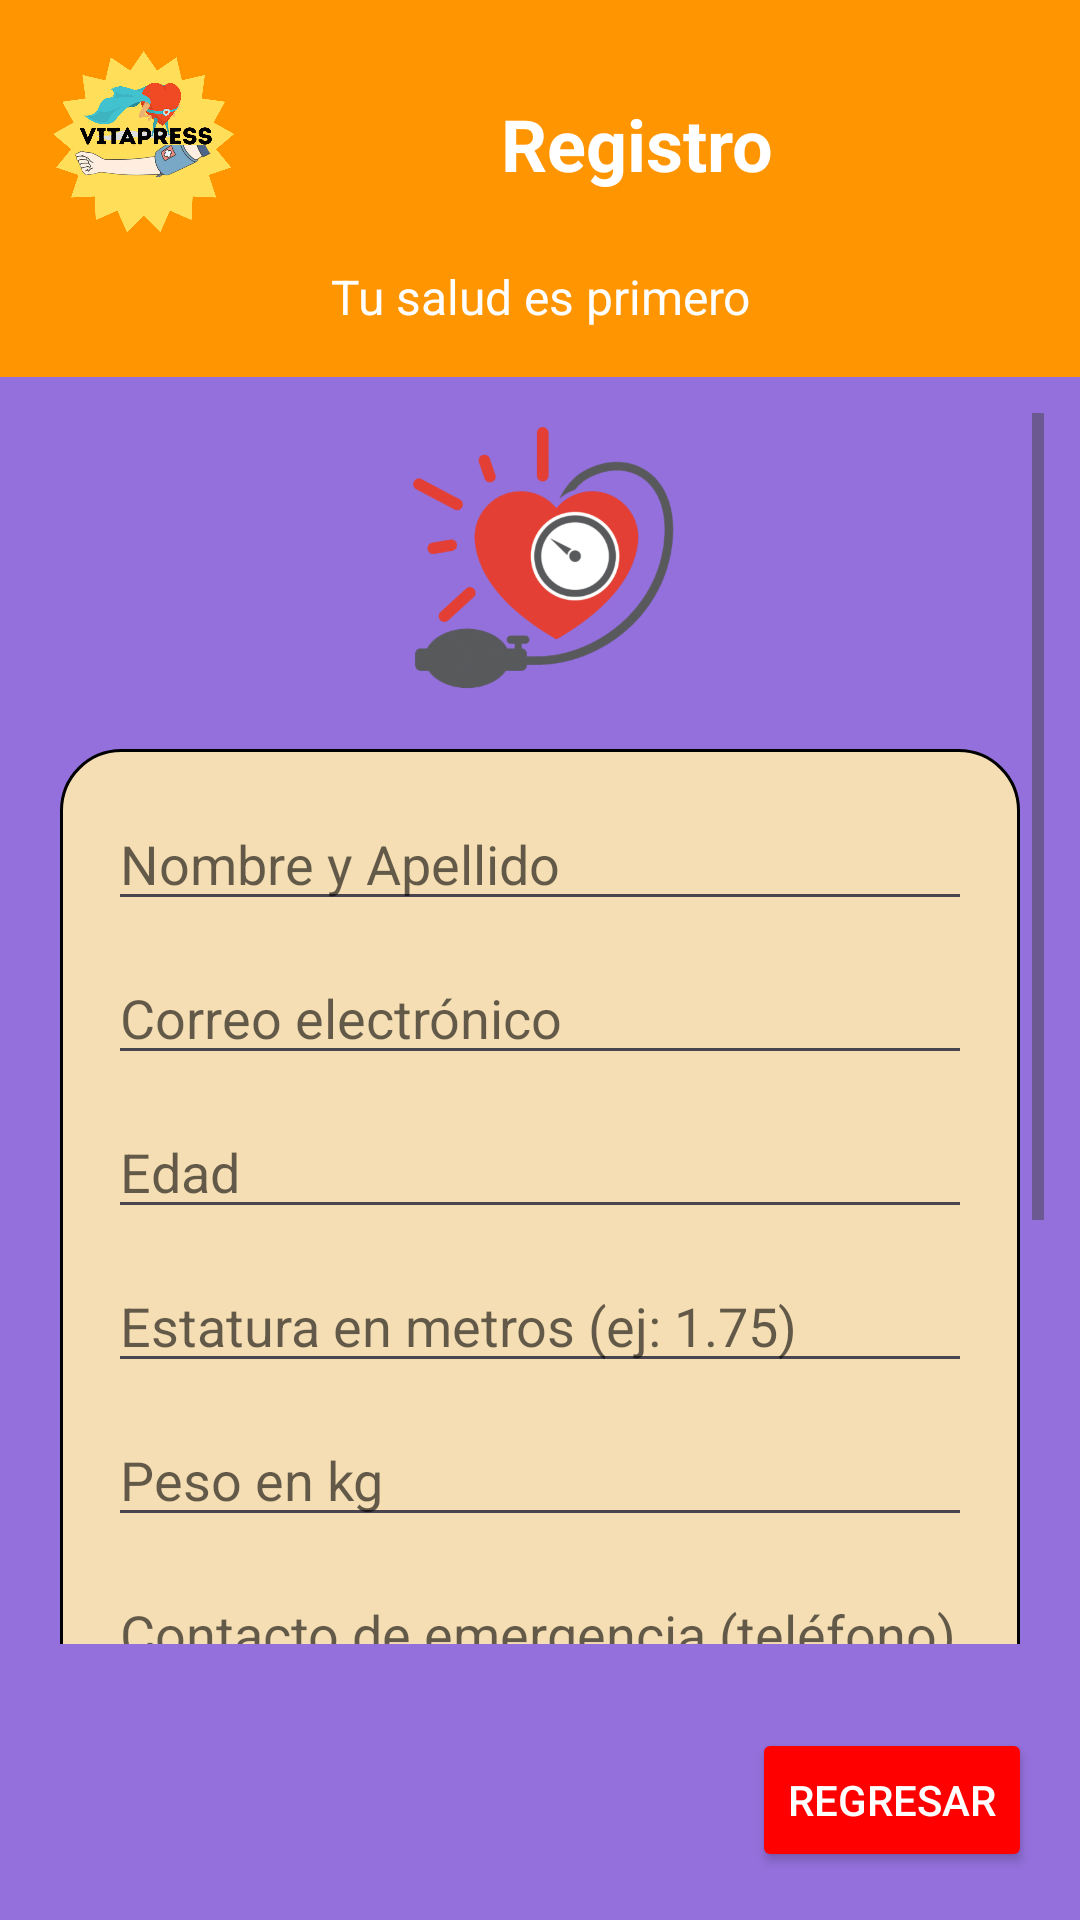

Icons on this 1080*1920 Android screen, each with its box as (x1, y1, x2, y2):
Corazón VitalPress: (413, 427, 674, 688)
